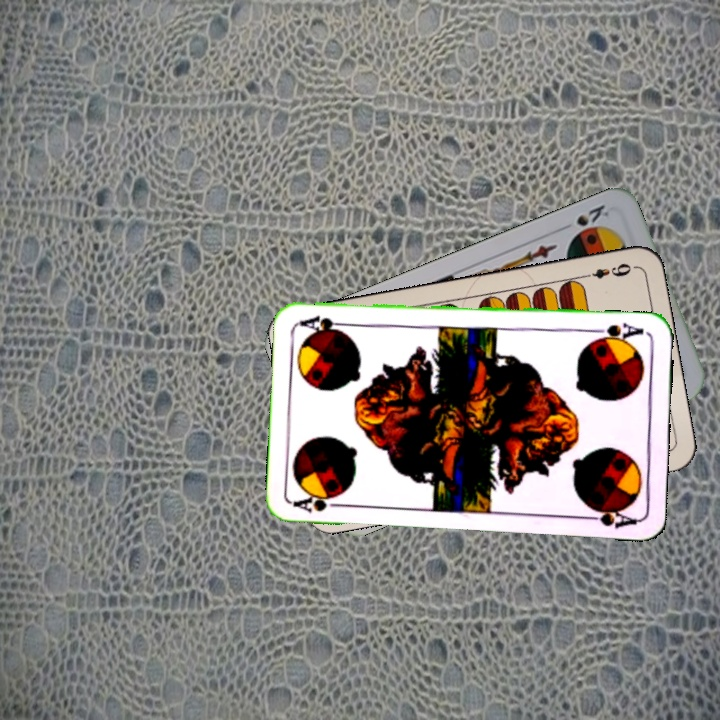E9: (578, 259, 634, 281)
SA: (588, 318, 647, 346), (290, 490, 349, 515)
SK: (572, 200, 612, 229)
